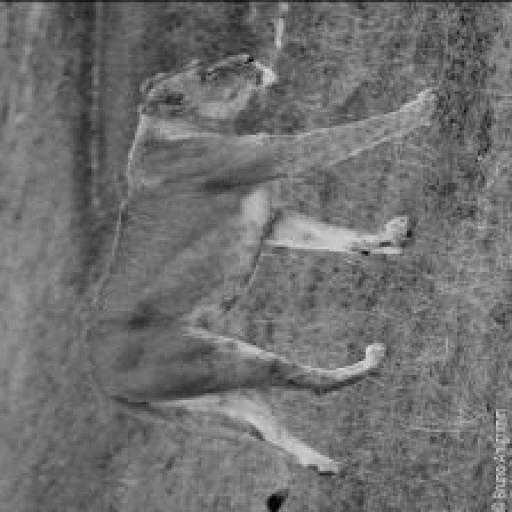lion: (68, 55, 470, 472)
